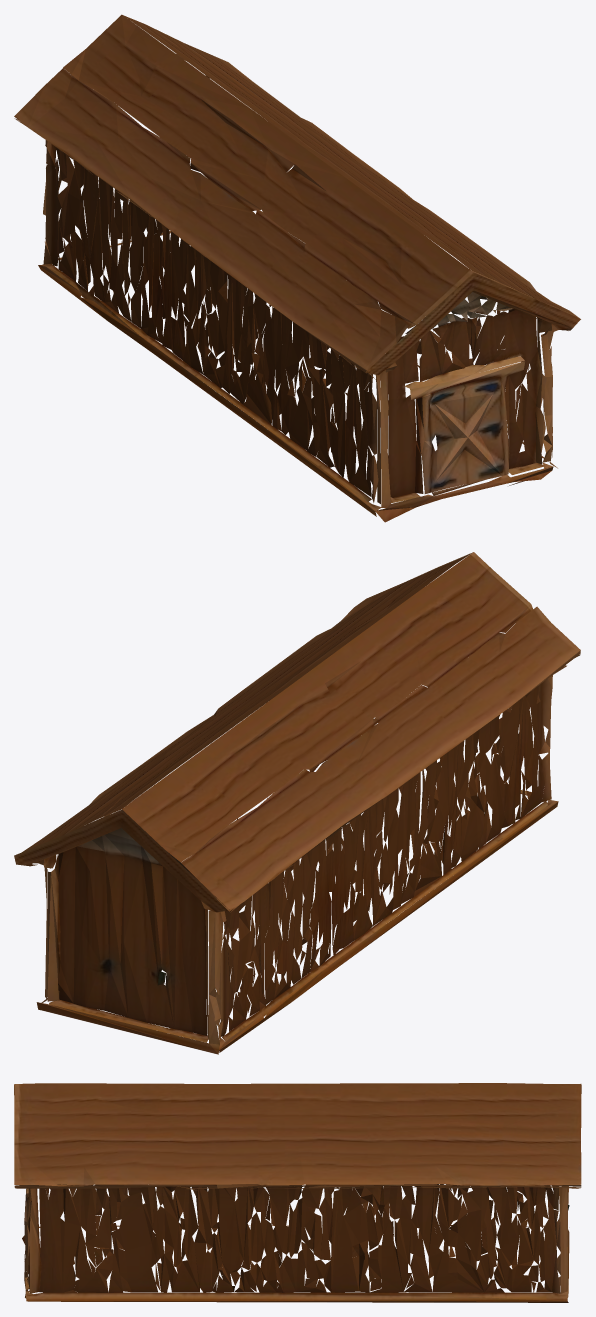
File: building_wood.glb
The picture shows the model from 3 angles, top to bottom: view 1: azimuth 30°, elevation 25°; view 2: azimuth 150°, elevation 25°; view 3: azimuth 270°, elevation 25°; orthographic projection. The views are drawn at different scales.
Visible parts, largest first — view 1: textured_mesh.obj; view 2: textured_mesh.obj; view 3: textured_mesh.obj.
Boxes of the visible parts, x1,y1,x2,y2 form: textured_mesh.obj: (14, 14, 580, 522); textured_mesh.obj: (14, 552, 580, 1054); textured_mesh.obj: (14, 1083, 581, 1302).
Size of the model in its own units: 0.7046 by 0.7266 by 1.99.
1 material, 1 textured.
